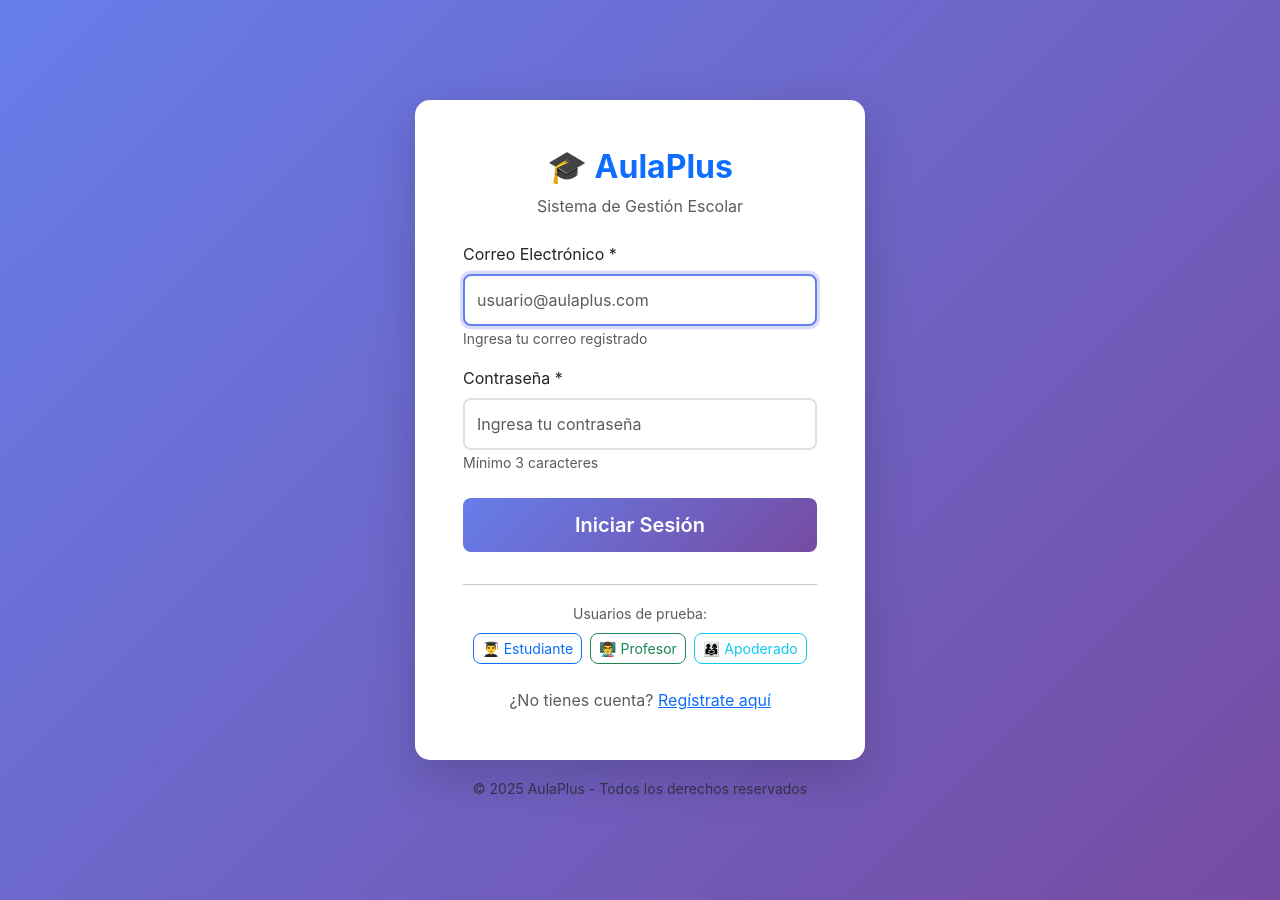
Test: Login Component - Pruebas Unitarias › login fallido muestra mensaje de error
This screenshot has width=1280, height=900.
Type "wrong@test.com" into the field named "Correo Electrónico" at point(640, 300), box [463, 274, 817, 326]
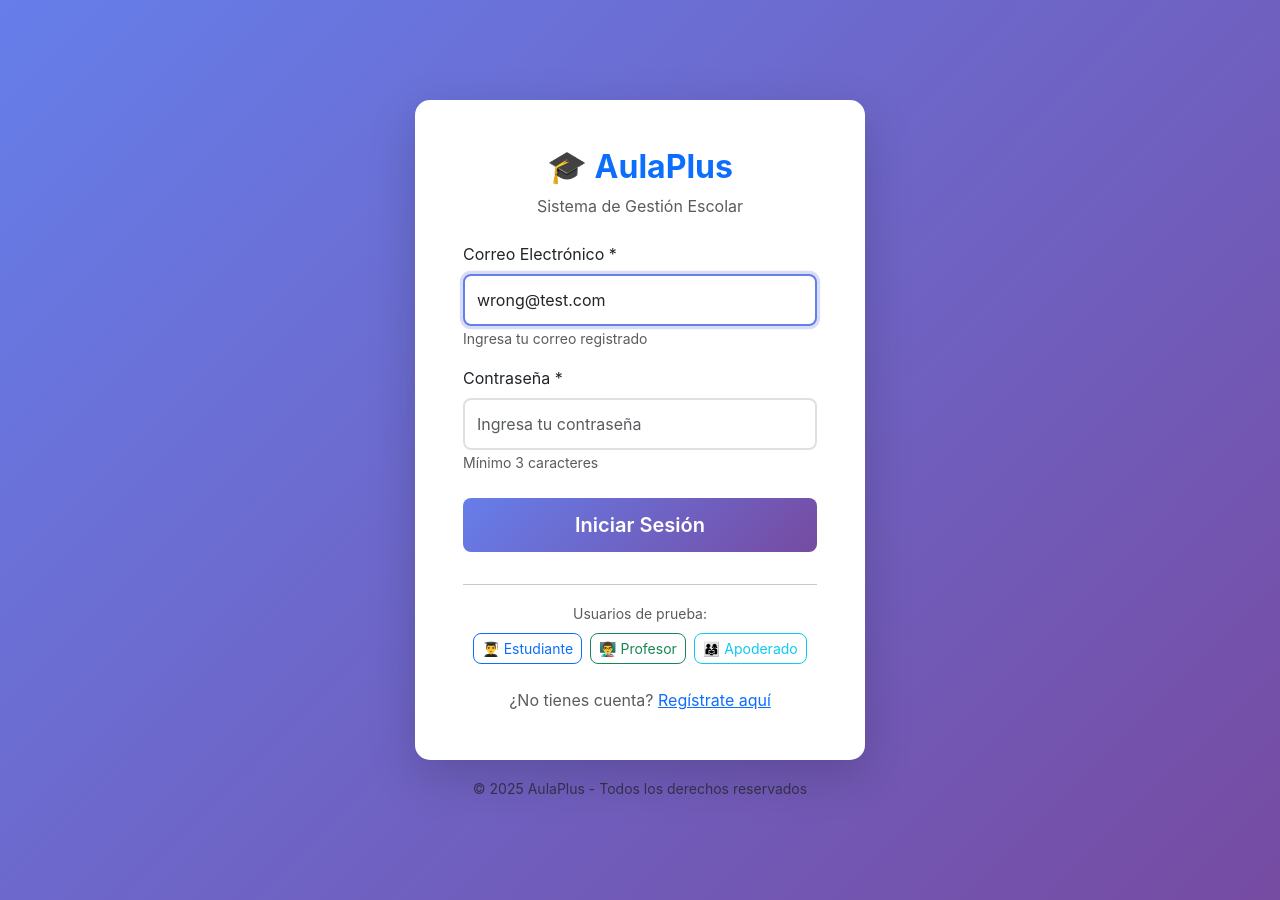
Type "wrongpass" into the password field labelled "Ingresa tu contraseña" at point(640, 424), box [463, 398, 817, 450]
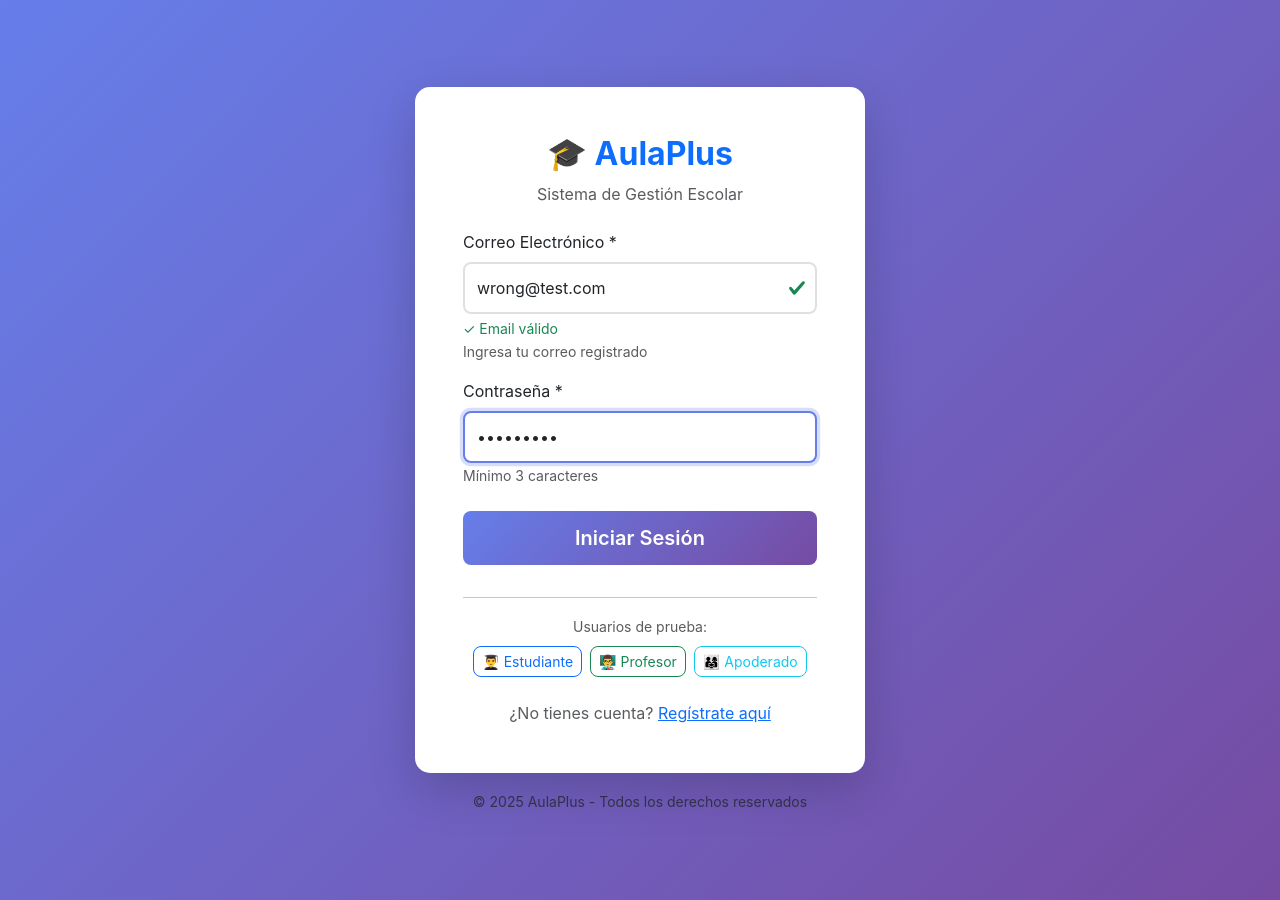
Click the button "Iniciar Sesión" at point(640, 538), box [463, 511, 817, 565]
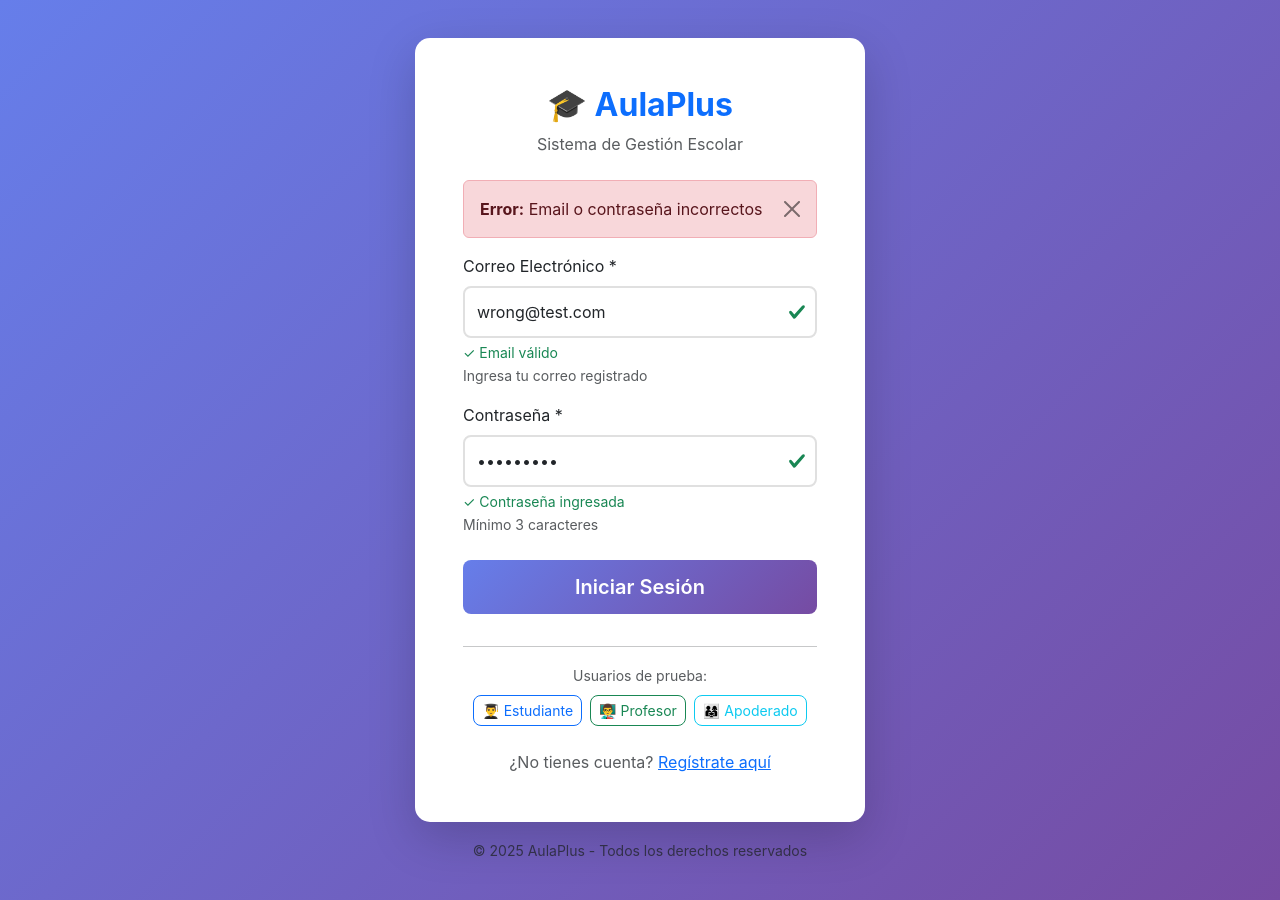
Expected: the text "Error: Email o contraseña incorrectos" is shown, [463, 180, 817, 238]
